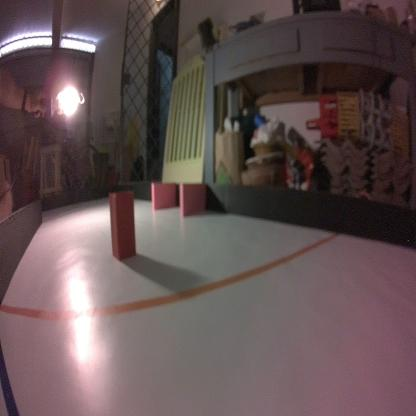magenta: (176, 182, 209, 220), (150, 180, 178, 209)
red: (108, 189, 137, 265)
